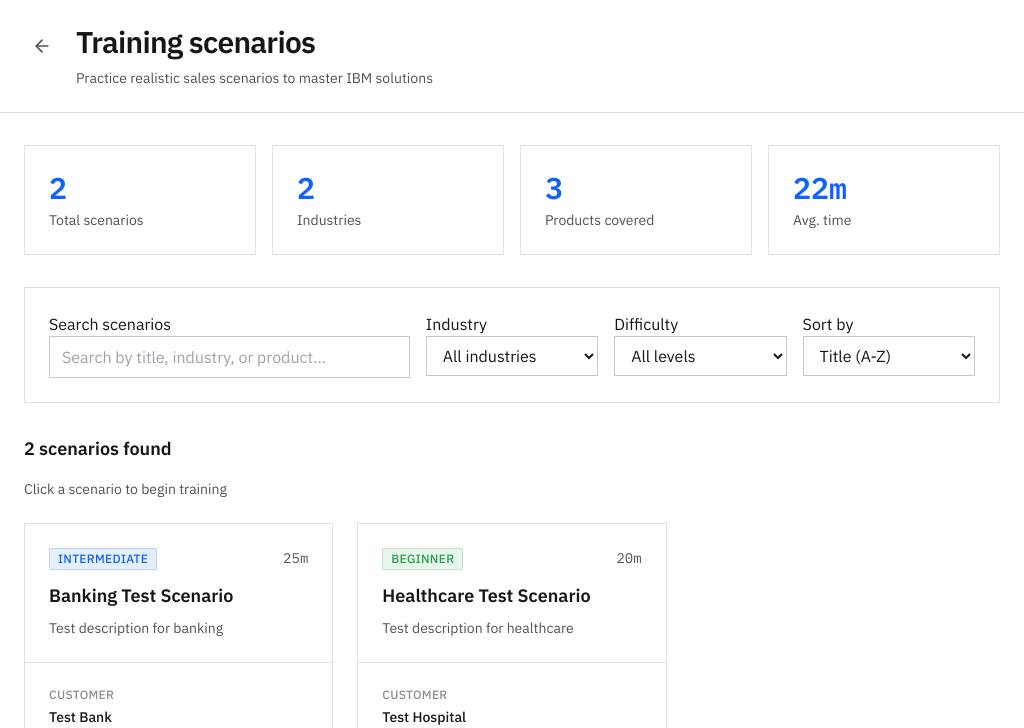
Test: ScenarioLibraryPage › Filter Functionality › should show active filter badges
Select "Healthcare" in the dropdown labelled "Industry" at point(512, 356), box [426,336,598,376]
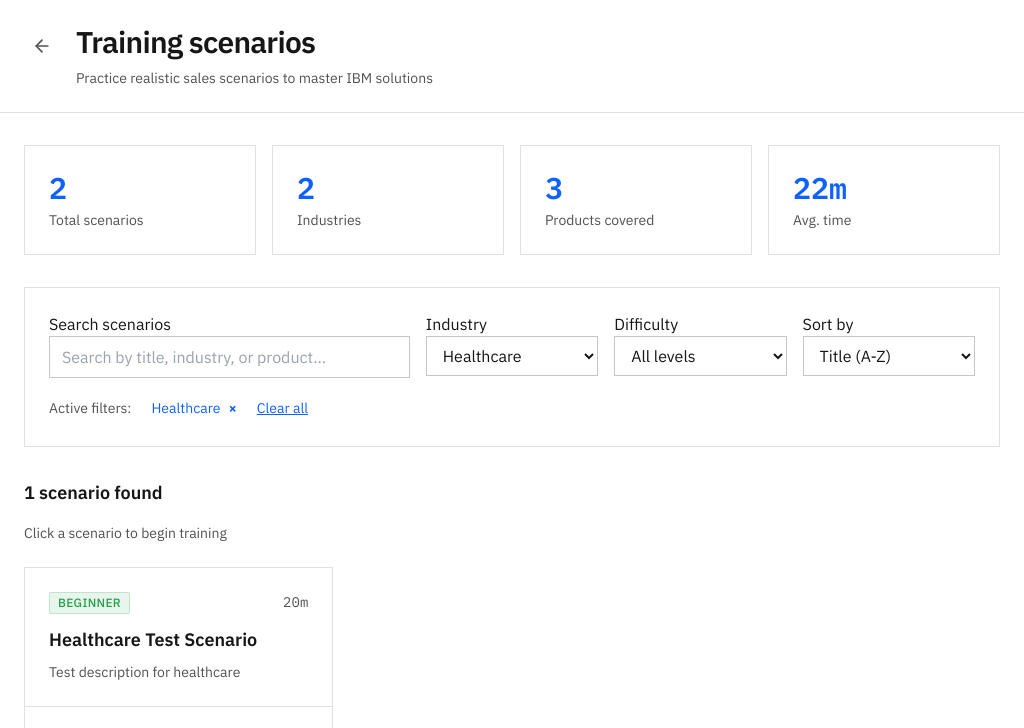
Expected: the text "Active filters:" is shown, [49,398,132,418]
